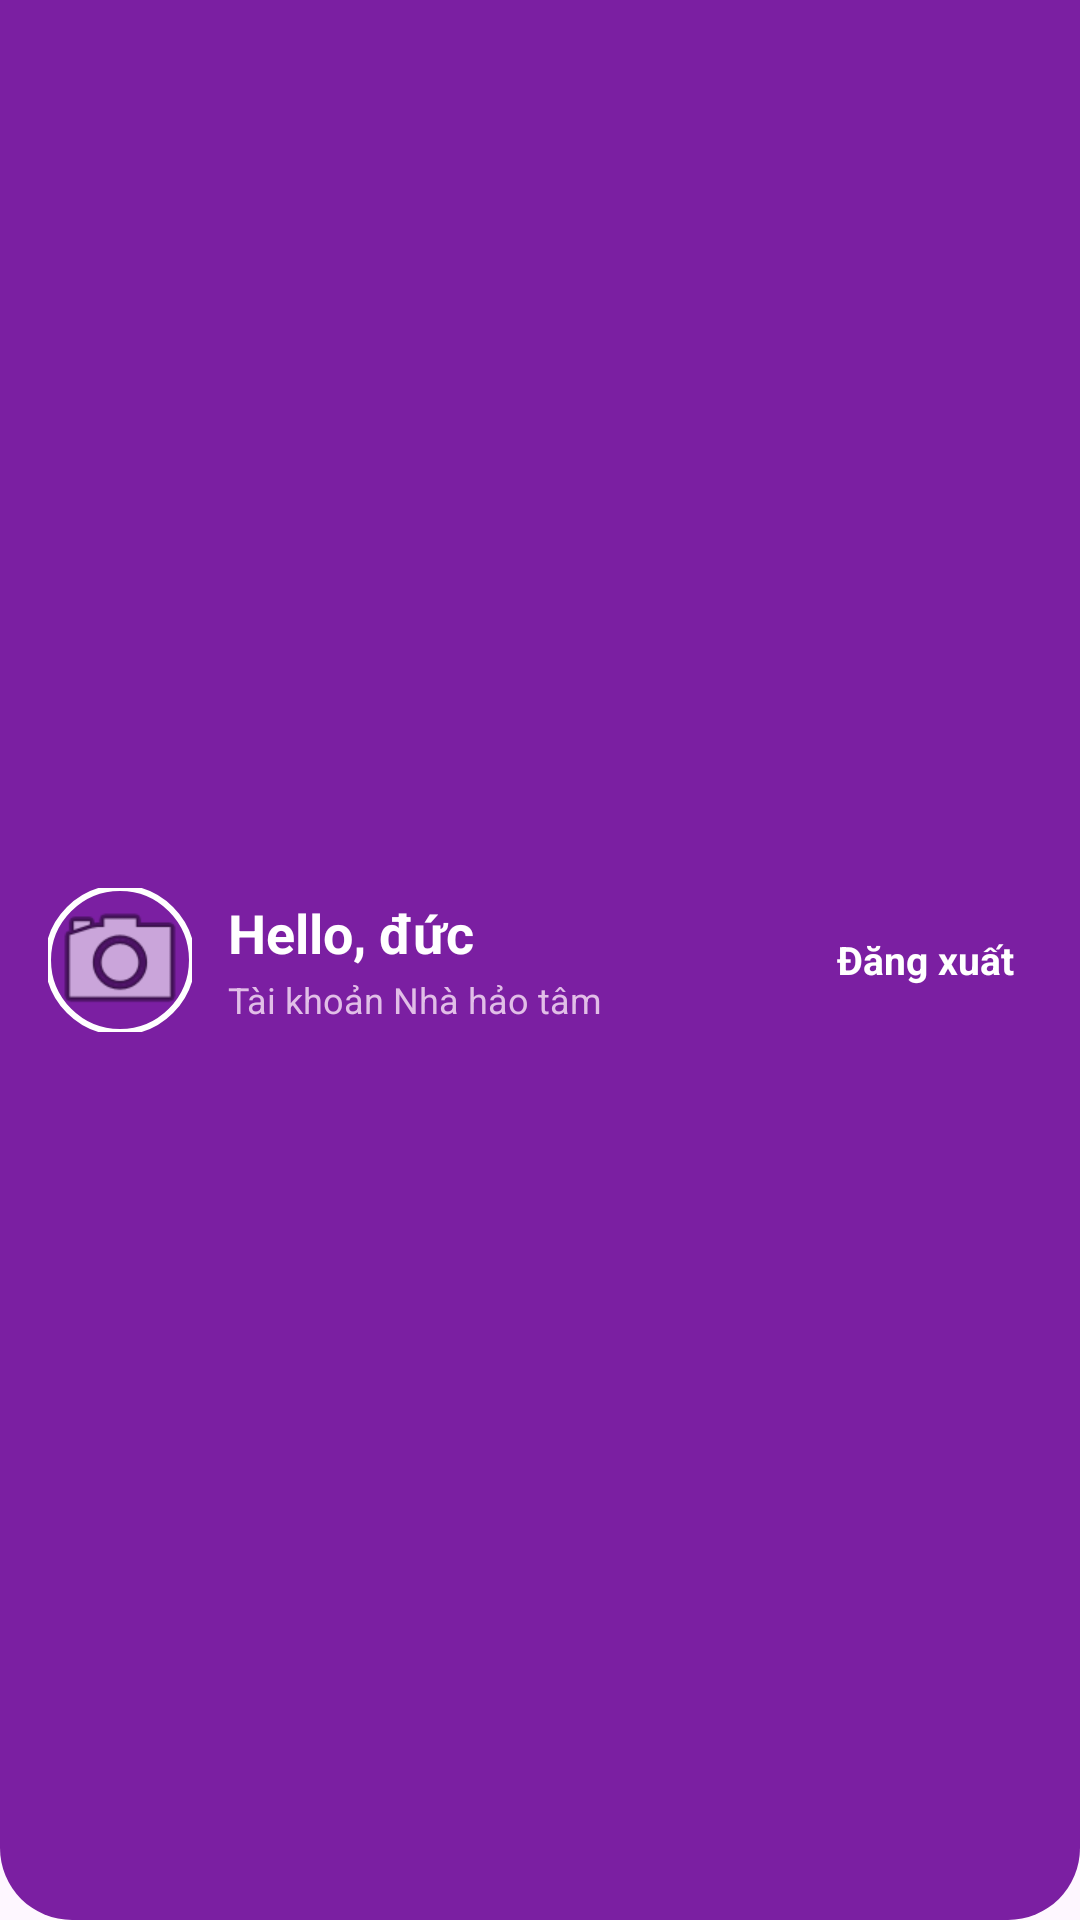

Named icons in this screenshot (1080px×1920px) and their centers, point (x, y):
camera: point (120, 960)
